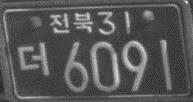0: (90, 40, 121, 93)
1: (159, 38, 174, 92), (123, 10, 133, 36)
3: (96, 10, 115, 35)
6: (63, 40, 89, 94)
9: (120, 40, 148, 93)
더: (16, 40, 50, 78)
전북_O: (48, 10, 93, 34)
